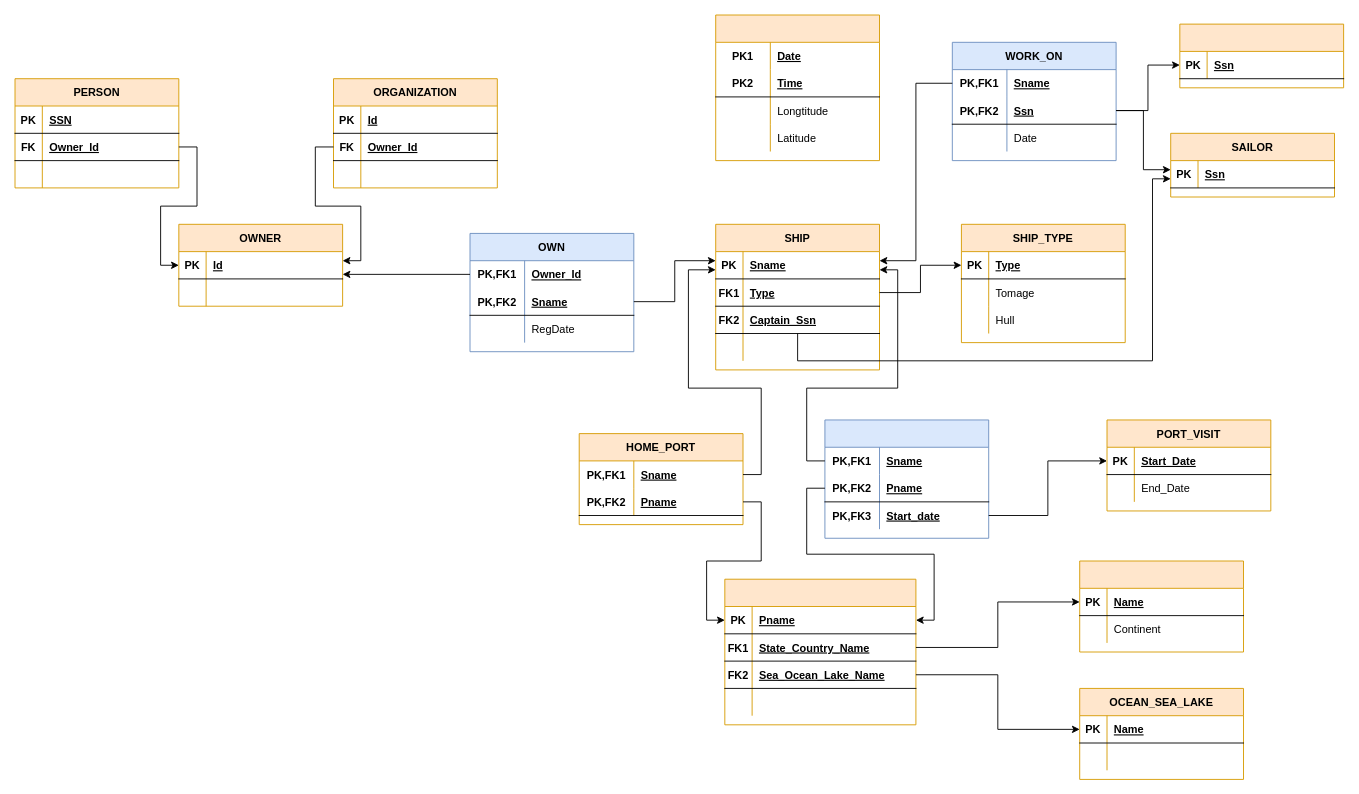
Image size: 1359x794. Some labels were removed from this diagram. The shapes that lost their labels are listed below. From the top down, each one's box as (x1, y1, x2, y2) in pixels, then its label:
(1179, 23, 1344, 88): SUPPORTING WORKER
(715, 14, 880, 161): SHIP_MOVEMENT
(824, 419, 989, 538): SHIP_AT_PORT
(1079, 560, 1244, 652): STATE_COUNTRY
(724, 578, 916, 725): PORT
